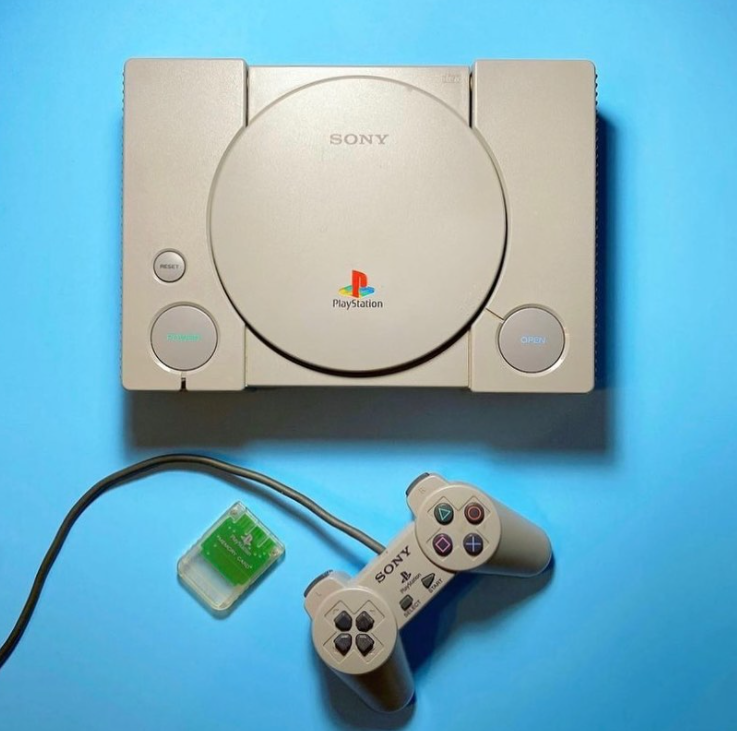gamingconsole: (295, 477, 554, 713)
